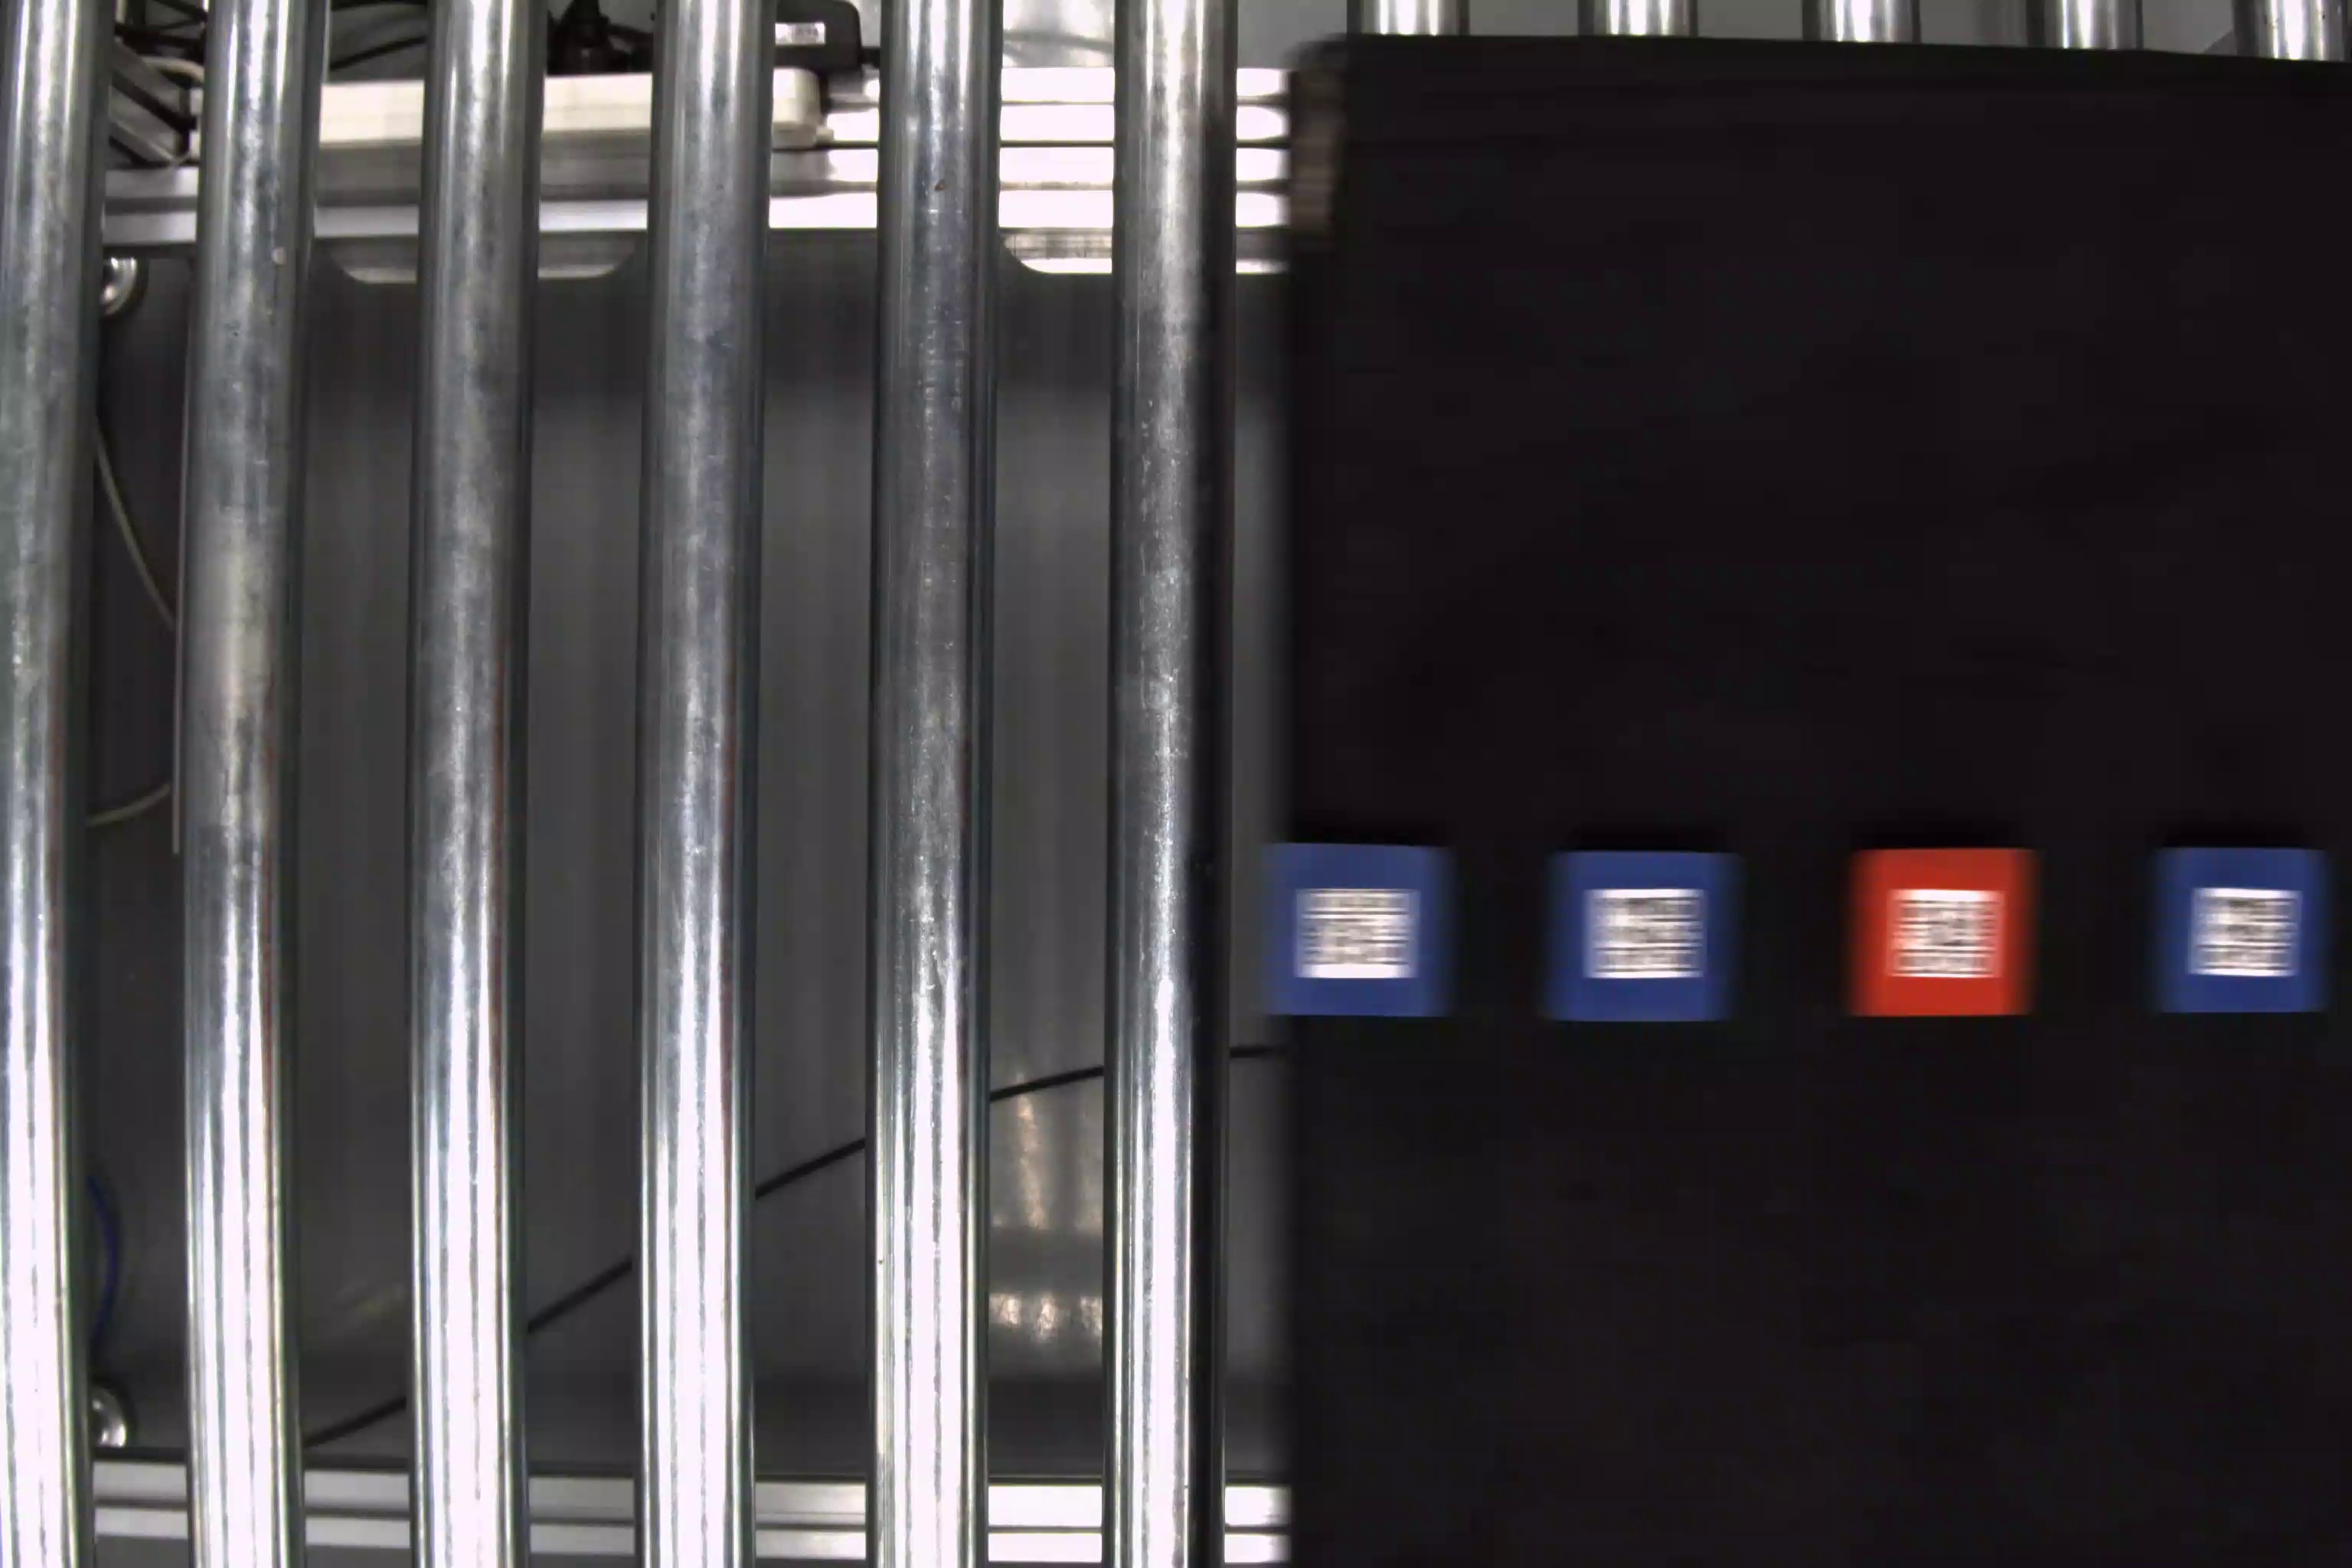wood: (1263, 836, 1463, 1022), (1547, 843, 1746, 1022), (1850, 843, 2046, 1022), (2151, 845, 2334, 1017)
